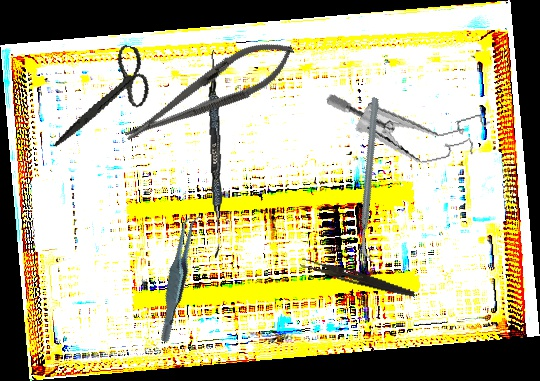Chopper: (303, 96, 440, 262)
Dressing Forceps: (298, 257, 417, 299)
Iris Scissors: (52, 33, 159, 166)
Needle Holder: (114, 26, 304, 158)
Spatula Surgical: (204, 50, 227, 258)
Speculum: (325, 60, 497, 185)
Tissue Forceps: (134, 210, 223, 344)
